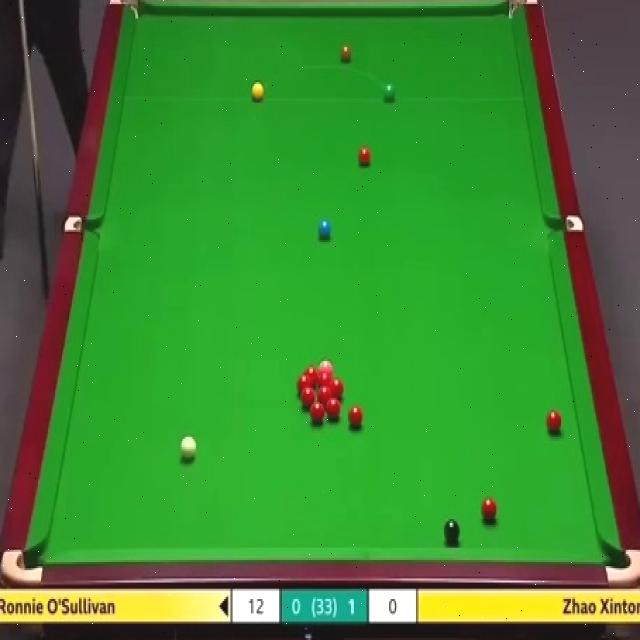black-ball: (443, 518, 460, 544)
blue-ball: (317, 219, 332, 242)
brown-ball: (341, 46, 353, 60)
green-ball: (382, 82, 397, 101)
pink-ball: (319, 360, 334, 371)
red-ball: (481, 497, 497, 521), (325, 397, 341, 419), (348, 406, 364, 427), (300, 387, 314, 409), (548, 410, 562, 431), (332, 378, 345, 400), (358, 146, 371, 168), (310, 402, 324, 422), (304, 365, 318, 382), (295, 375, 311, 389), (320, 369, 331, 385), (318, 387, 332, 399)
white-ball: (178, 434, 197, 464)
yellow-ball: (250, 83, 264, 102)
